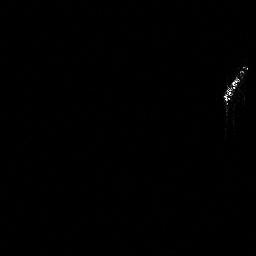ship: (218, 62, 251, 110)
